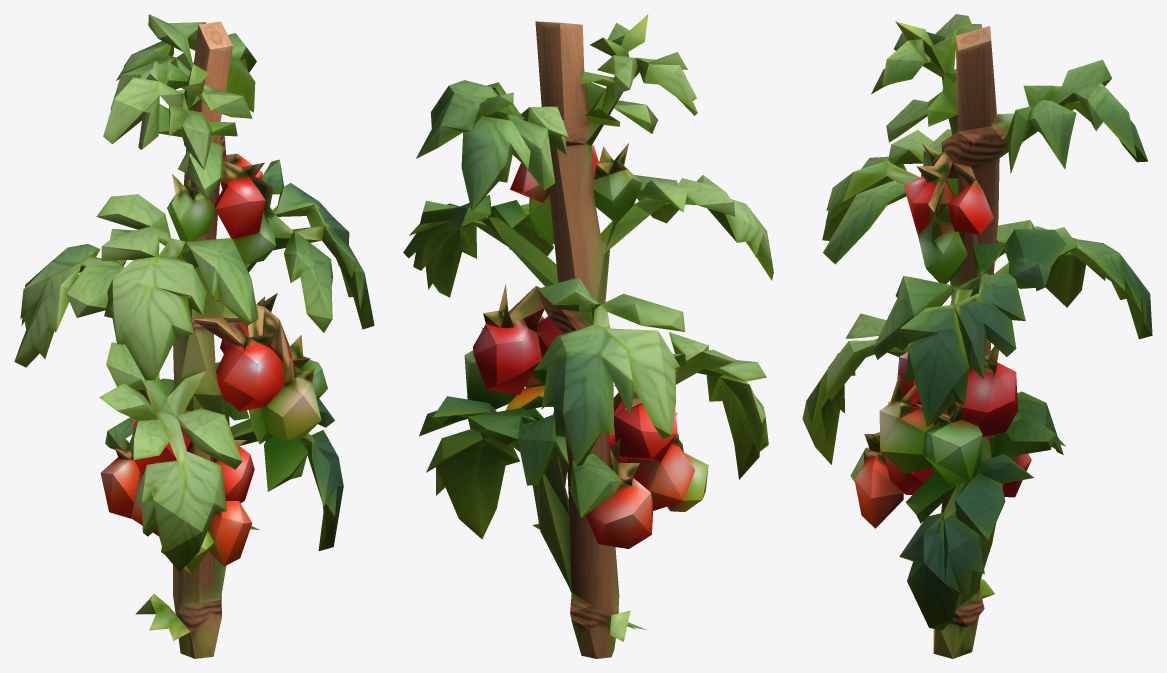
The model's file is Tomato.glb.
The picture shows the model from 3 angles, left to right: view 1: azimuth 30°, elevation 25°; view 2: azimuth 150°, elevation 25°; view 3: azimuth 270°, elevation 25°; orthographic projection. The views are drawn at different scales.
Parts seen in each view (by area): view 1: geometry_0; view 2: geometry_0; view 3: geometry_0.
Boxes of the visible parts, x1,y1,x2,y2 form: geometry_0: [14, 14, 374, 658]; geometry_0: [403, 14, 773, 658]; geometry_0: [802, 14, 1152, 658].
Size of the model in its own units: 0.61 by 1.22 by 0.61.
Materials: 1 (1 with a texture image).
